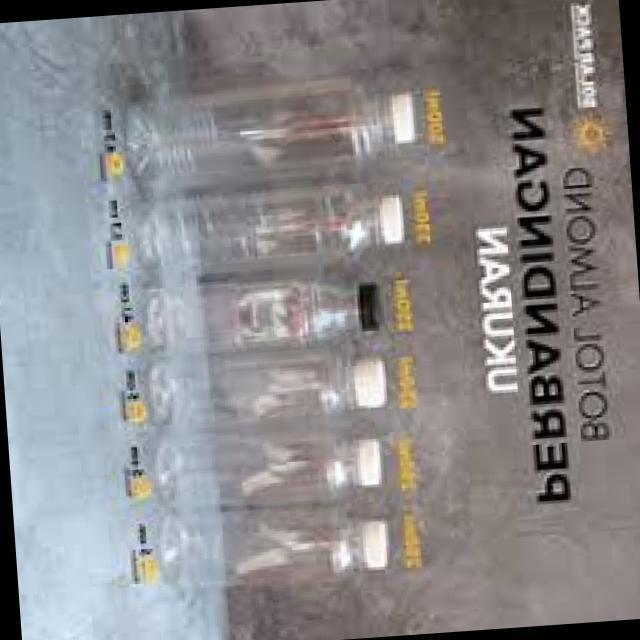good: (112, 326, 398, 445), (130, 260, 392, 362)
